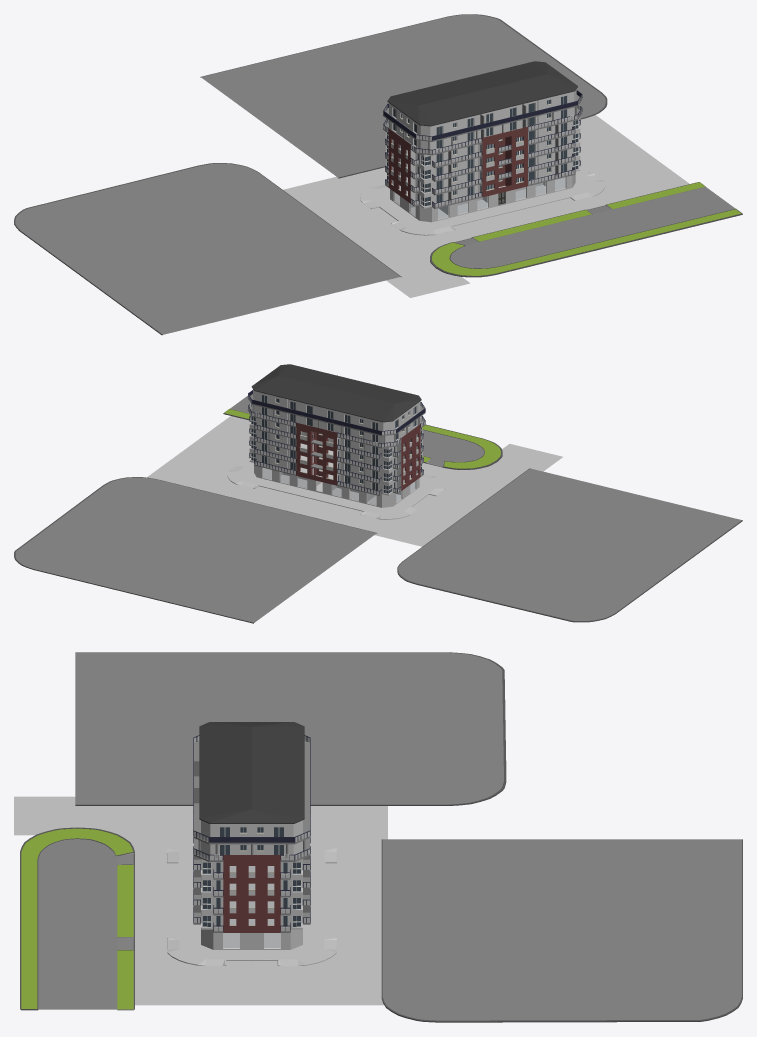
The model's file is building1.obj.
3 renders of one model, top to bottom at view 1: azimuth 30°, elevation 25°; view 2: azimuth 150°, elevation 25°; view 3: azimuth 270°, elevation 25°, orthographic. The views are drawn at different scales.
Visible parts, largest first — view 1: lowpavement_Plane.028, pavementlast_Plane.032, road_Plane.026, pavement2_Plane.027, roof_Cube.001, pavement_Plane.025, paredes12.013_Plane.088, paredes.004_Plane.019, paredes12.009_Plane.009, paredes9_Plane.105, paredes6.001_Plane.107, paredes2_Plane.073 (+12 smaller); view 2: lowpavement_Plane.028, pavementlast_Plane.032, road_Plane.026, roof_Cube.001, pavement2_Plane.027, pavement_Plane.025, paredes12.012_Plane.089, paredes.004_Plane.019, pared_rojaa8_Plane.071, paredes12.014_Plane.087, paredes11_Plane.104, paredes7_Plane.108 (+12 smaller); view 3: pavementlast_Plane.032, lowpavement_Plane.028, road_Plane.026, pavement2_Plane.027, roof_Cube.001, pavement_Plane.025, pared_rojaa4_Plane.004, paredes.004_Plane.019, pared_rojaa3_Plane.003, pared_rojaa2_Plane.074, paredes12.014_Plane.087, paredes12.009_Plane.009 (+2 smaller).
Boxes of the visible parts, x1=… form: lowpavement_Plane.028: x1=14, y1=163, x2=401, y2=335; pavementlast_Plane.032: x1=200, y1=14, x2=607, y2=178; road_Plane.026: x1=283, y1=115, x2=689, y2=297; pavement2_Plane.027: x1=430, y1=182, x2=742, y2=277; roof_Cube.001: x1=387, y1=61, x2=577, y2=126; pavement_Plane.025: x1=360, y1=171, x2=605, y2=235; paredes12.013_Plane.088: x1=404, y1=109, x2=501, y2=151; paredes.004_Plane.019: x1=390, y1=172, x2=575, y2=222; paredes12.009_Plane.009: x1=501, y1=89, x2=576, y2=132; paredes9_Plane.105: x1=410, y1=157, x2=505, y2=181; paredes6.001_Plane.107: x1=410, y1=170, x2=505, y2=195; paredes2_Plane.073: x1=410, y1=184, x2=482, y2=208; lowpavement_Plane.028: x1=397, y1=468, x2=742, y2=622; pavementlast_Plane.032: x1=14, y1=477, x2=377, y2=623; road_Plane.026: x1=147, y1=416, x2=562, y2=546; roof_Cube.001: x1=251, y1=364, x2=421, y2=422; pavement2_Plane.027: x1=223, y1=396, x2=502, y2=469; pavement_Plane.025: x1=227, y1=462, x2=445, y2=519; paredes12.012_Plane.089: x1=320, y1=407, x2=406, y2=444; paredes.004_Plane.019: x1=254, y1=465, x2=419, y2=507; pared_rojaa8_Plane.071: x1=296, y1=422, x2=420, y2=454; paredes12.014_Plane.087: x1=253, y1=389, x2=319, y2=427; paredes11_Plane.104: x1=316, y1=449, x2=401, y2=471; paredes7_Plane.108: x1=316, y1=461, x2=401, y2=483; pavementlast_Plane.032: x1=381, y1=839, x2=742, y2=1022; lowpavement_Plane.028: x1=75, y1=652, x2=506, y2=805; road_Plane.026: x1=14, y1=796, x2=387, y2=1005; pavement2_Plane.027: x1=20, y1=827, x2=134, y2=1009; roof_Cube.001: x1=199, y1=722, x2=304, y2=823; pavement_Plane.025: x1=167, y1=836, x2=336, y2=965; pared_rojaa4_Plane.004: x1=223, y1=855, x2=280, y2=879; paredes.004_Plane.019: x1=201, y1=929, x2=302, y2=949; pared_rojaa3_Plane.003: x1=223, y1=879, x2=280, y2=897; pared_rojaa2_Plane.074: x1=223, y1=897, x2=280, y2=915; paredes12.014_Plane.087: x1=252, y1=820, x2=302, y2=856; paredes12.009_Plane.009: x1=201, y1=820, x2=251, y2=856.
Size of the model in its own units: 156 by 26.3 by 130.
